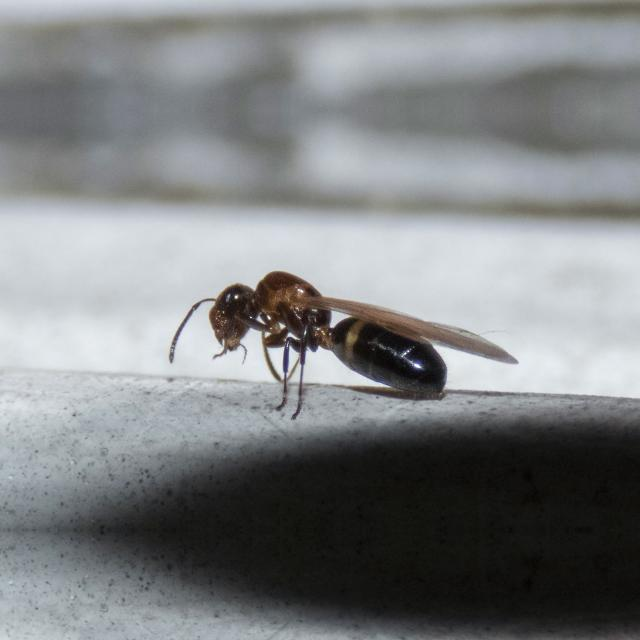Colobopsis: (181, 247, 467, 411)
